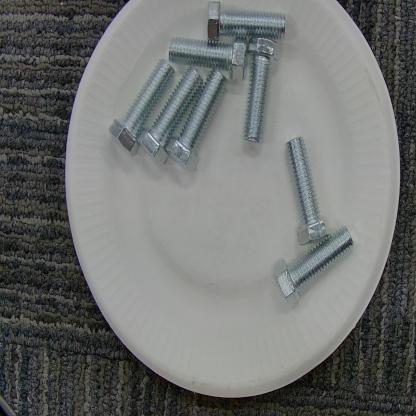FOD: (110, 0, 288, 156), (272, 135, 360, 310)
